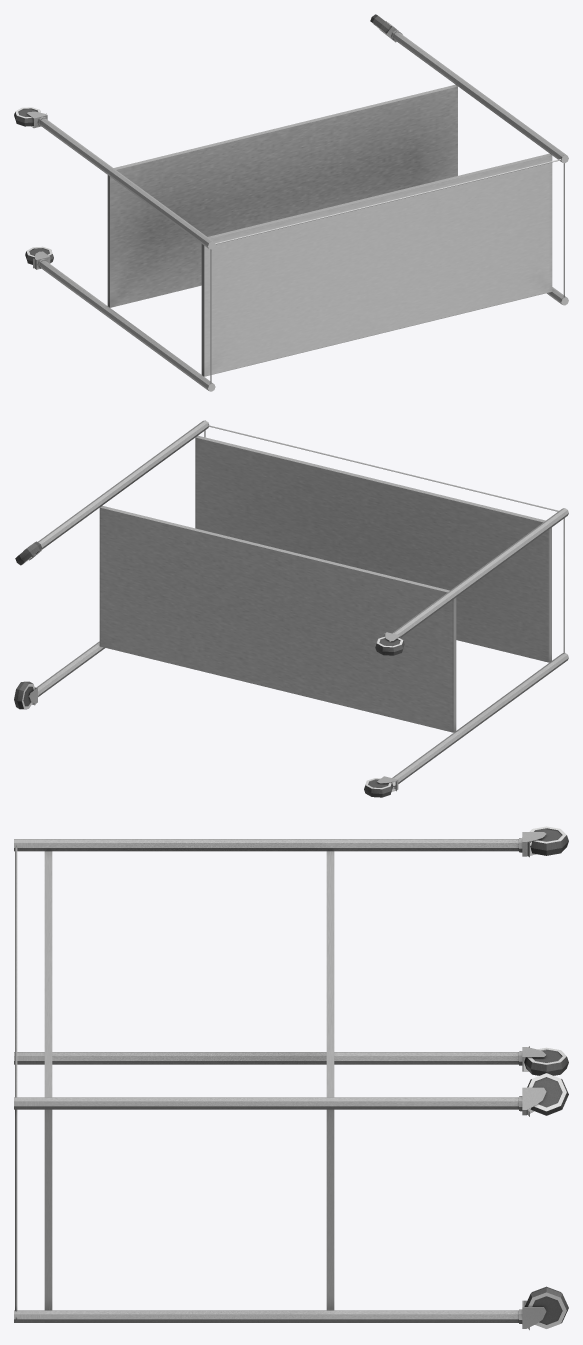
The model's file is trolley.obj.
The picture shows the model from 3 angles, top to bottom: view 1: azimuth 30°, elevation 25°; view 2: azimuth 150°, elevation 25°; view 3: azimuth 270°, elevation 25°; orthographic projection. The views are drawn at different scales.
Parts seen in each view (by area): view 1: trolley_Cube.002; view 2: trolley_Cube.002; view 3: trolley_Cube.002.
Boxes of the visible parts, x1,y1,x2,y2 form: trolley_Cube.002: [14, 14, 568, 391]; trolley_Cube.002: [14, 420, 568, 797]; trolley_Cube.002: [14, 826, 568, 1330].
Bounding box in the file's own units: 0.8786 × 0.3664 × 0.7418.
1 material, 1 textured.
